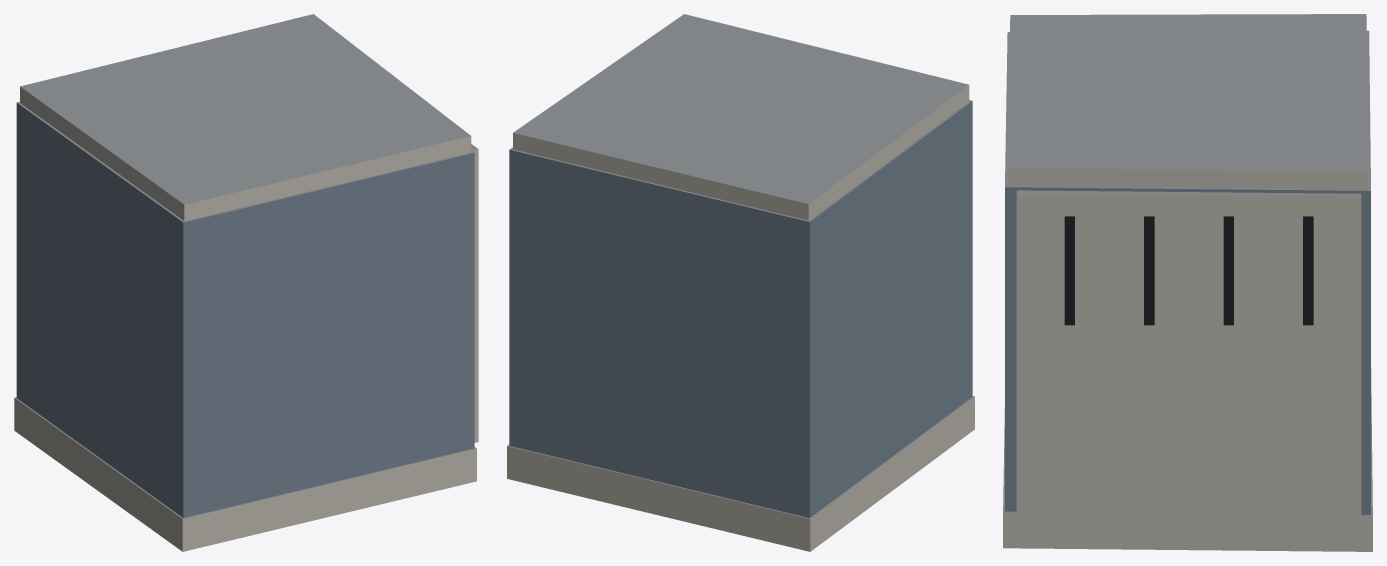
File: hatch_courthouse.glb
3 renders of one model, left to right at view 1: azimuth 30°, elevation 25°; view 2: azimuth 150°, elevation 25°; view 3: azimuth 270°, elevation 25°, orthographic. The views are drawn at different scales.
Parts seen in each view (by area): view 1: Hatch_Courthouse; view 2: Hatch_Courthouse; view 3: Hatch_Courthouse.
Part boxes in pixels (<box>): Hatch_Courthouse: <box>14,14,478,551</box>; Hatch_Courthouse: <box>507,14,974,551</box>; Hatch_Courthouse: <box>1003,14,1372,551</box>.
Bounding box in the file's own units: 58.23 × 63 × 55.82.
